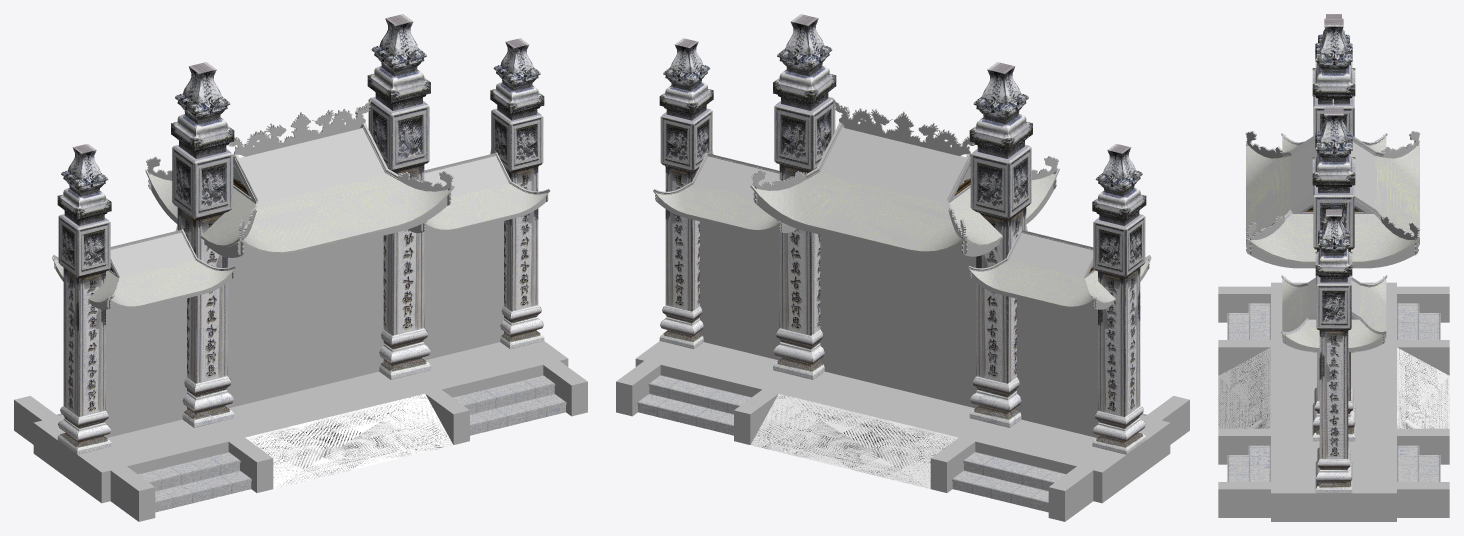
The picture shows the model from 3 angles, left to right: view 1: azimuth 30°, elevation 25°; view 2: azimuth 150°, elevation 25°; view 3: azimuth 270°, elevation 25°; orthographic projection. The views are drawn at different scales.
Visible parts, largest first — view 1: co_tu_tru_-_ktsPKT161 (×8), ktsPKT161_66, ktsPKT161_55 (×2), group_4 (×2), group_11 (×2), chieu_rong_-_ktsPKT161, group_22 (×2), group_14, Group_139 (×6), group_24 (×2), group_1, group_2 (+2 smaller); view 2: co_tu_tru_-_ktsPKT161 (×8), ktsPKT161_66, ktsPKT161_55 (×2), group_4 (×2), group_11 (×2), group_8, group_22 (×2), group_14, Group_139 (×6), group_24 (×2), group_6, group_7 (+2 smaller); view 3: co_tu_tru_-_ktsPKT161 (×6), group_4 (×2), Group_139 (×16), group_11 (×2), group_22 (×2), chieu_rong_-_ktsPKT161, group_8, group_14, Group_25 (×4), group_1, group_6, group_2 (+3 smaller).
Boxes of the visible parts, bbox=[...] form: co_tu_tru_-_ktsPKT161 (×8): bbox=[57, 14, 544, 454]; ktsPKT161_66: bbox=[225, 235, 383, 408]; ktsPKT161_55 (×2): bbox=[104, 221, 503, 437]; group_4 (×2): bbox=[33, 341, 568, 503]; group_11 (×2): bbox=[145, 169, 454, 254]; chieu_rong_-_ktsPKT161: bbox=[245, 393, 453, 488]; group_22 (×2): bbox=[52, 183, 548, 306]; group_14: bbox=[239, 128, 386, 204]; Group_139 (×6): bbox=[14, 361, 587, 521]; group_24 (×2): bbox=[110, 156, 508, 277]; group_1: bbox=[138, 452, 251, 512]; group_2: bbox=[452, 375, 566, 435]; co_tu_tru_-_ktsPKT161 (×8): bbox=[659, 14, 1146, 454]; ktsPKT161_66: bbox=[820, 235, 978, 408]; ktsPKT161_55 (×2): bbox=[700, 221, 1099, 437]; group_4 (×2): bbox=[635, 341, 1170, 503]; group_11 (×2): bbox=[750, 168, 1059, 253]; group_8: bbox=[750, 393, 958, 488]; group_22 (×2): bbox=[655, 183, 1150, 306]; group_14: bbox=[819, 127, 965, 203]; Group_139 (×6): bbox=[616, 361, 1189, 521]; group_24 (×2): bbox=[694, 156, 1093, 277]; group_6: bbox=[952, 452, 1065, 512]; group_7: bbox=[637, 375, 751, 435]; co_tu_tru_-_ktsPKT161 (×6): bbox=[1312, 18, 1355, 493]; group_4 (×2): bbox=[1271, 282, 1396, 521]; Group_139 (×16): bbox=[1218, 286, 1449, 517]; group_11 (×2): bbox=[1246, 141, 1419, 263]; group_22 (×2): bbox=[1282, 136, 1386, 347]; chieu_rong_-_ktsPKT161: bbox=[1218, 347, 1270, 428]; group_8: bbox=[1397, 347, 1449, 428]; group_14: bbox=[1290, 141, 1375, 207]; Group_25 (×4): bbox=[1245, 131, 1420, 239]; group_1: bbox=[1227, 303, 1270, 339]; group_6: bbox=[1397, 303, 1440, 339]; group_2: bbox=[1227, 445, 1270, 481].
Bounding box in the file's own units: 280 × 130 × 217.
